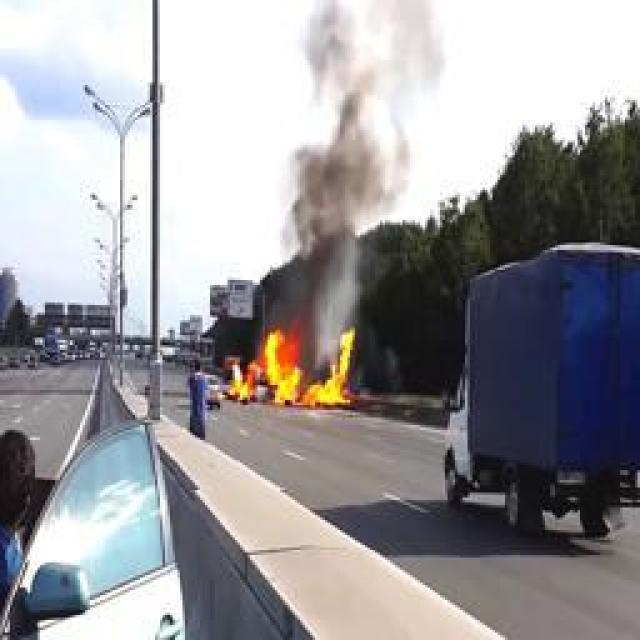Fire: (231, 330, 354, 405)
